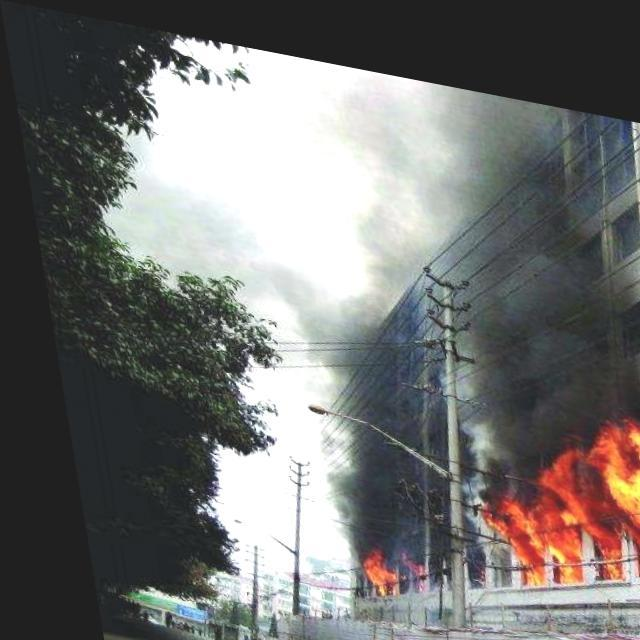Fire: (444, 368, 639, 590), (333, 531, 415, 590)
